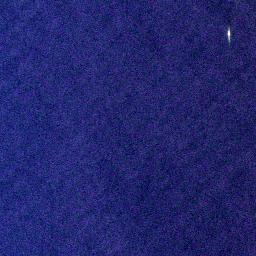Ship: (226, 26, 231, 42)
